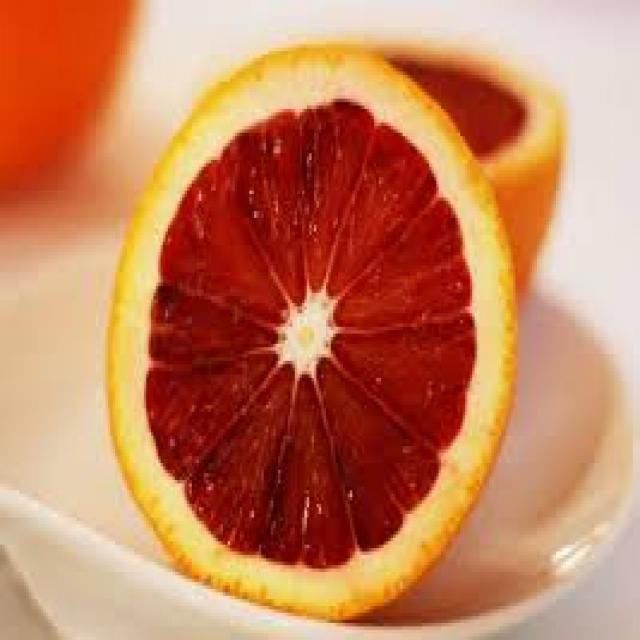orange: (105, 44, 522, 626)
